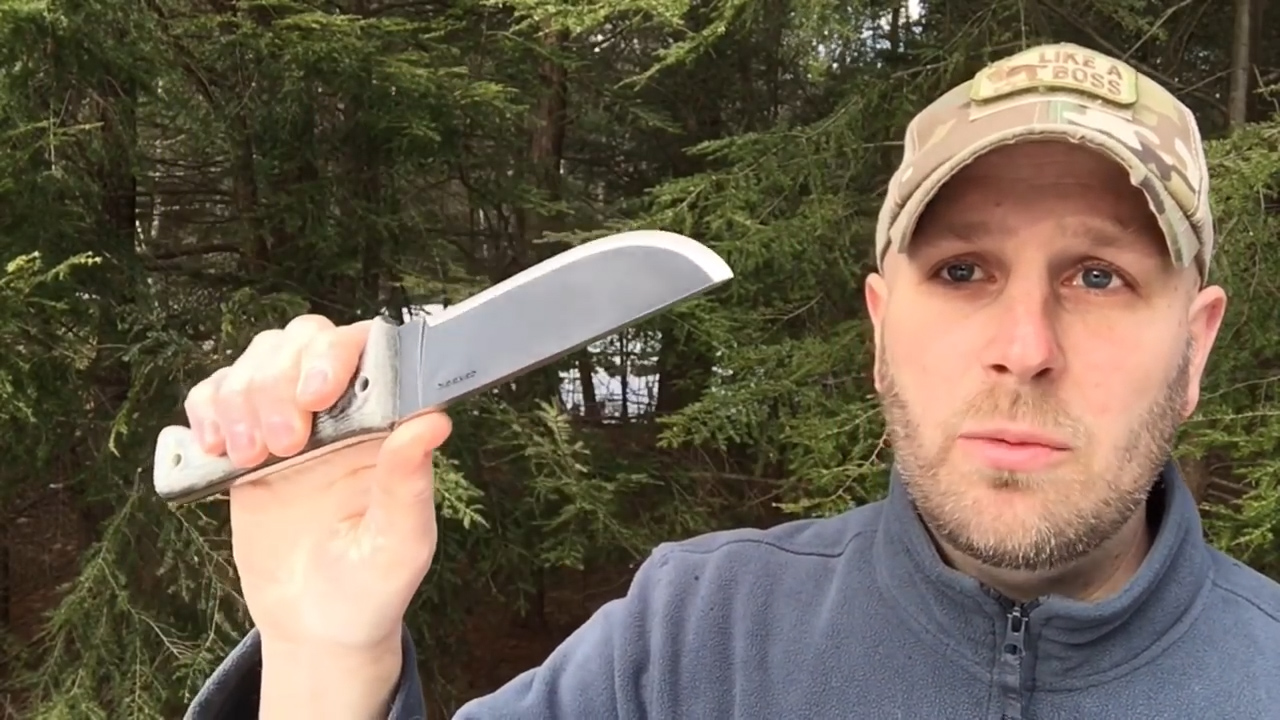knife: (263, 210, 747, 506)
